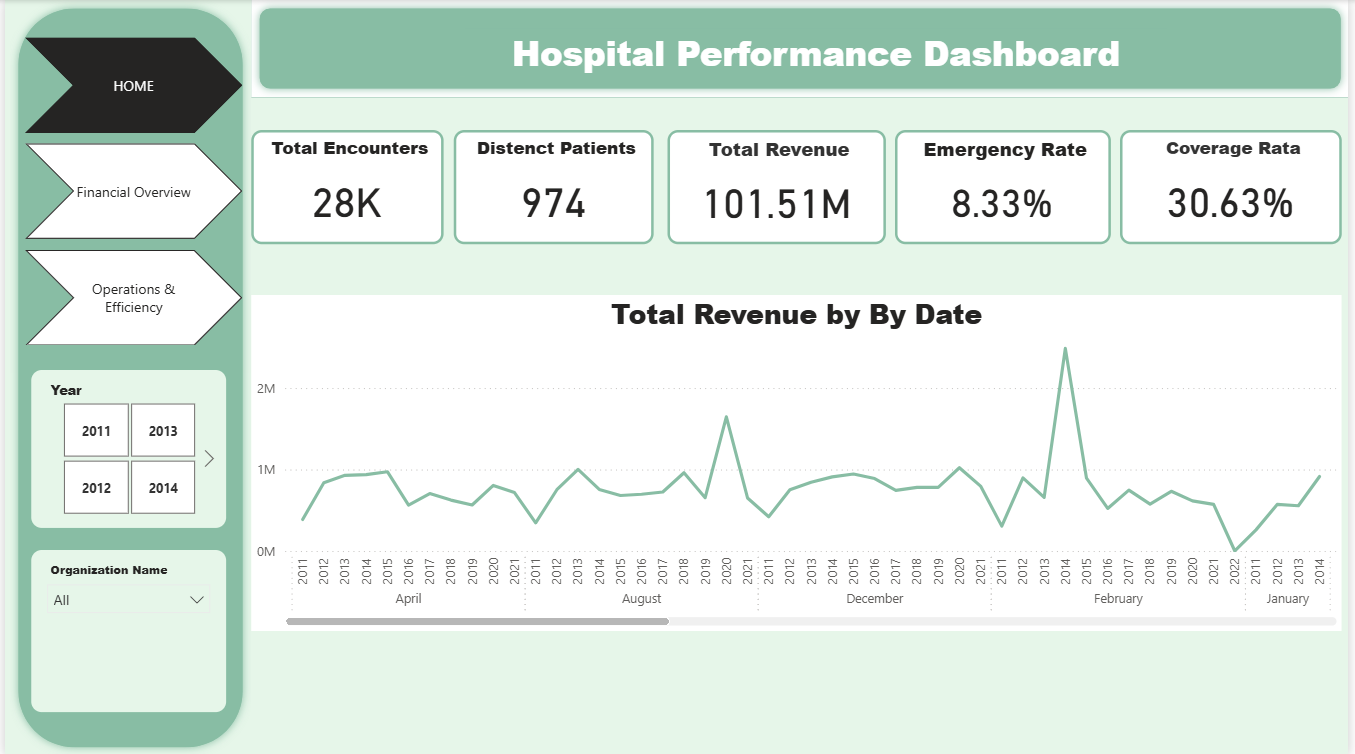

The dashboard page shown, as its layout file describes it:
{"tool":"powerbi","page":{"name":"HOME","canvas":[1280,720],"ordinal":0},"visuals":[{"type":"group","id":"g1","title":"Group 2","box":[4.9,0,229.5,719.8],"z":0,"group":"g3"},{"type":"shape","box":[4.9,0,229.5,719.8],"z":0,"group":"g1"},{"type":"shape","box":[234.4,0,1045.6,92.4],"z":0,"group":"g2"},{"type":"card","title":"Total Encounters","fields":{"Values":["encounters.Total Num Of Patient"]},"box":[234.4,123.5,182.9,108.9],"z":0},{"type":"textbox","title":"Hospital Performance Dashboard","box":[432.8,27.2,678.1,45.3],"z":1000,"group":"g2"},{"type":"pageNavigator","box":[18.7,36,207.2,294.7],"z":1000,"group":"g1"},{"type":"card","title":"Emergency Rate","fields":{"Values":["encounters.Emergency Rate1"]},"box":[848.1,123.5,205.2,108.9],"z":1000},{"type":"slicer","fields":{"Values":["organizations.NAME"]},"box":[25.3,523.3,185.8,154.7],"z":1000,"group":"g3"},{"type":"card","title":"Distenct Patients","fields":{"Values":["encounters.Distinct Patients"]},"box":[428,123.5,190.6,108.9],"z":2000},{"type":"slicer","fields":{"Values":["Calender.Year"]},"box":[25.5,352.1,185.8,150.8],"z":2000,"group":"g1"},{"type":"card","title":"Total Revenue","fields":{"Values":["encounters.Total-Revenue"]},"box":[631.2,123.5,208.1,108.9],"z":3000},{"type":"lineChart","title":"Total Revenue by By Date","fields":{"Y":["encounters.Total-Revenue"],"Category":["Calender.Month-Name","Calender.Date.Variation.Date Hierarchy.Year"]},"box":[234.4,281.1,1038.8,320],"z":5000},{"type":"group","id":"g2","title":"Group 1","box":[234.4,0,1045.6,92.4],"z":7000},{"type":"card","title":"Coverage Rata","fields":{"Values":["encounters.Coverage Rate"]},"box":[1062.1,123.5,211.1,108.9],"z":8000},{"type":"group","id":"g3","title":"Group 3","box":[4.9,0,229.5,719.8],"z":8005}]}

Visuals, with their boxes in screenshot pixels (x1, y1, x2, y2), scaled from the page's 1280x720 canvas onto the 1355x754 screenshot:
"Group 2" group: x1=5 y1=0 x2=248 y2=753
shape: x1=5 y1=0 x2=248 y2=753
shape: x1=248 y1=0 x2=1354 y2=97
"Total Encounters" card: x1=248 y1=129 x2=442 y2=243
"Hospital Performance Dashboard" textbox: x1=458 y1=28 x2=1176 y2=76
pageNavigator: x1=20 y1=38 x2=239 y2=346
"Emergency Rate" card: x1=898 y1=129 x2=1115 y2=243
slicer - organizations.NAME: x1=27 y1=548 x2=223 y2=710
"Distenct Patients" card: x1=453 y1=129 x2=655 y2=243
slicer - Calender.Year: x1=27 y1=369 x2=224 y2=527
"Total Revenue" card: x1=668 y1=129 x2=888 y2=243
"Total Revenue by By Date" lineChart: x1=248 y1=294 x2=1348 y2=629
"Group 1" group: x1=248 y1=0 x2=1354 y2=97
"Coverage Rata" card: x1=1124 y1=129 x2=1348 y2=243
"Group 3" group: x1=5 y1=0 x2=248 y2=753
